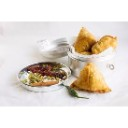samosa: (74, 63, 111, 94), (75, 27, 98, 52), (94, 34, 118, 53)
